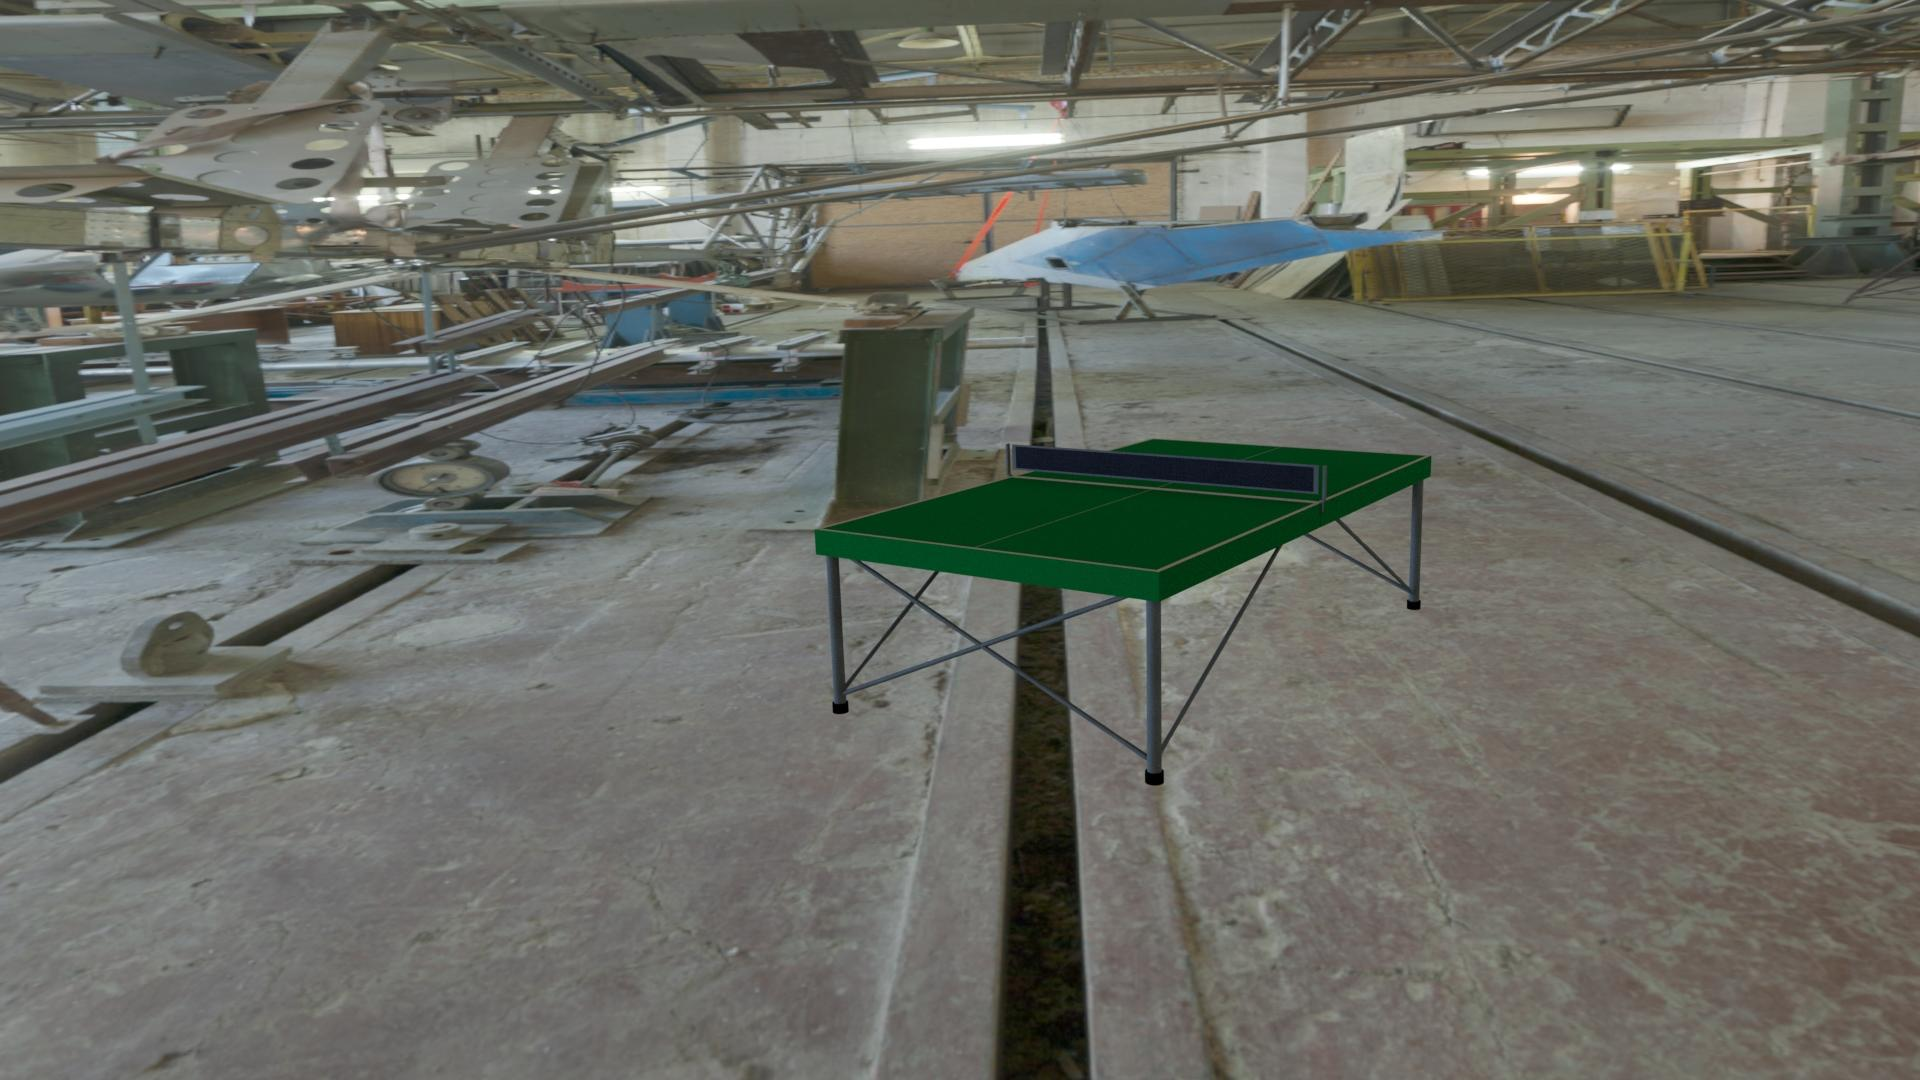table: (822, 439, 1425, 570)
